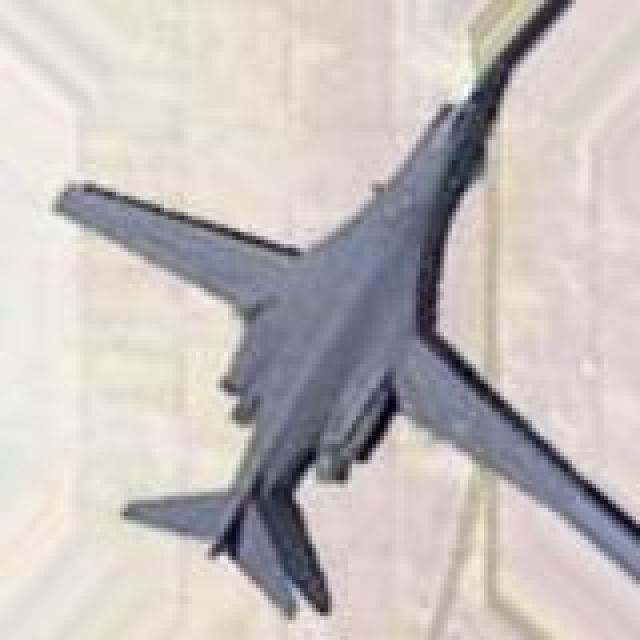B-1_TopDown: (48, 0, 636, 624)
